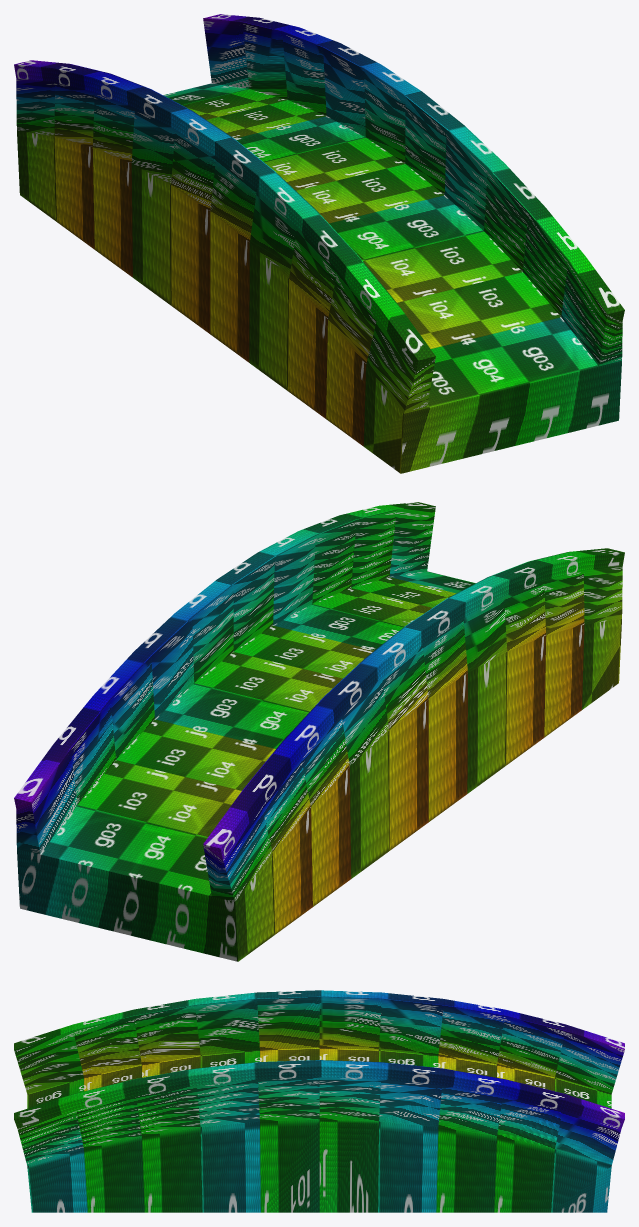
Rendered from BridgeCollisionBottom.FBX.
The picture shows the model from 3 angles, top to bottom: view 1: azimuth 30°, elevation 25°; view 2: azimuth 150°, elevation 25°; view 3: azimuth 270°, elevation 25°; orthographic projection. The views are drawn at different scales.
Parts seen in each view (by area): view 1: BridgeCollision; view 2: BridgeCollision; view 3: BridgeCollision.
Part boxes in pixels (x1,y1,x2,y2): BridgeCollision: (14, 14, 624, 473); BridgeCollision: (14, 502, 624, 961); BridgeCollision: (14, 990, 624, 1212).
Bounding box in the file's own units: 18.08 × 15.1 × 58.04.
